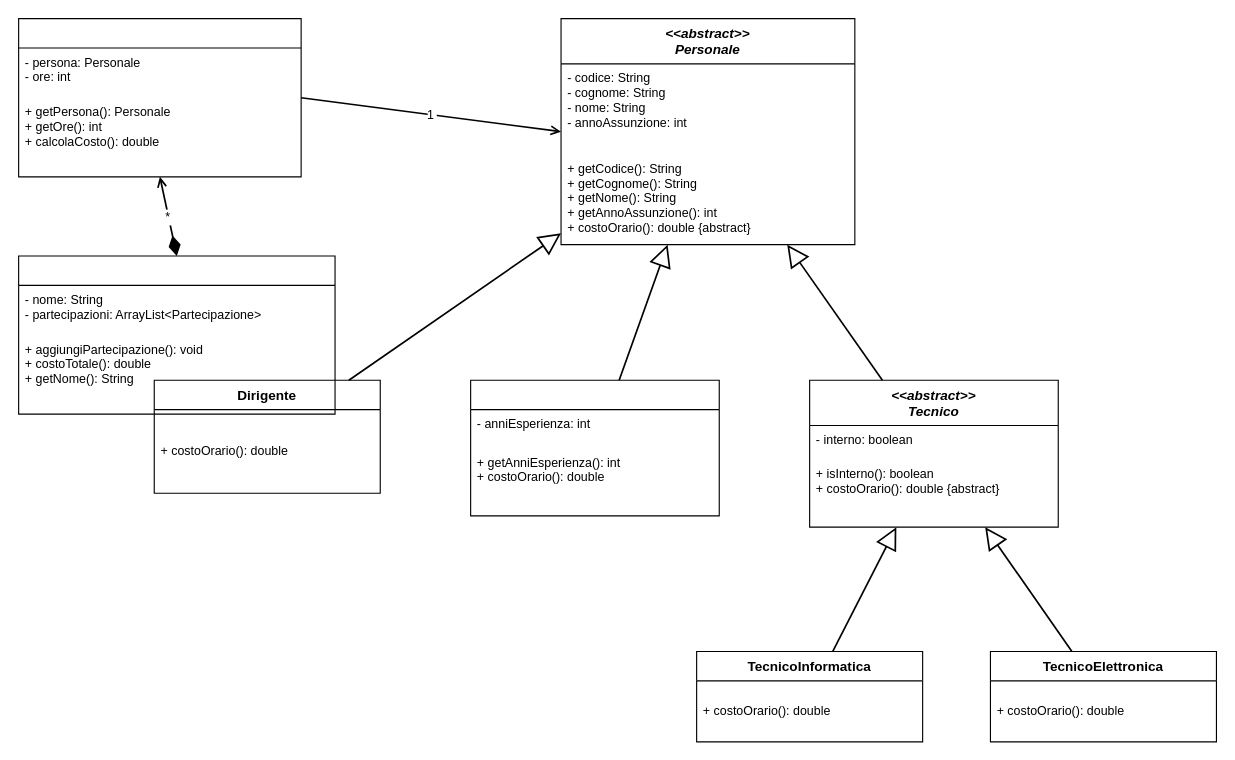
Some shapes in this 1235 by 760 pixel diagram are drawn without their labels. Each missing label, with the box of its shape:
Funzionario: (470, 379, 719, 516)
Partecipazione: (18, 18, 301, 177)
Progetto: (18, 255, 335, 414)
